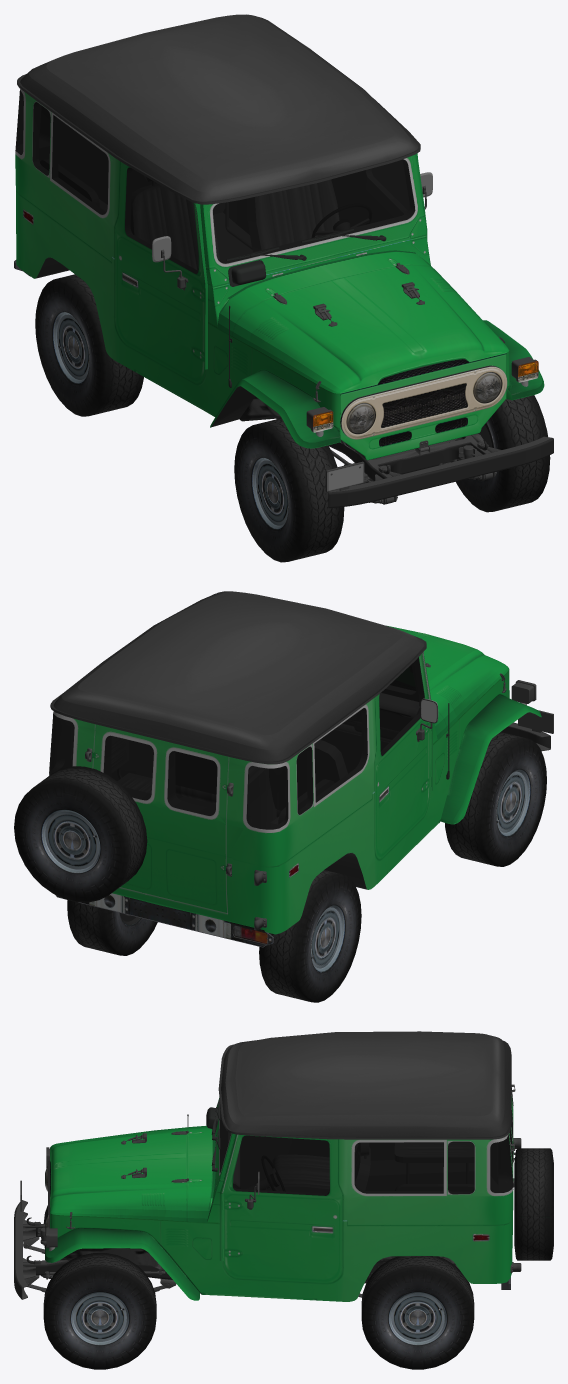
Rendered from car_9.FBX.
3 renders of one model, top to bottom at view 1: azimuth 30°, elevation 25°; view 2: azimuth 150°, elevation 25°; view 3: azimuth 270°, elevation 25°, orthographic. The views are drawn at different scales.
Visible parts, largest first — view 1: Body, Wheel_FR, Wheel_BR, Wheel_FL; view 2: Body, Wheel_FR, Wheel_BR, Wheel_BL; view 3: Body, Wheel_FL, Wheel_BL.
Part boxes in pixels (x1,y1,x2,y2): Body: (14,14,553,508); Wheel_FR: (234,418,344,562); Wheel_BR: (35,274,143,416); Wheel_FL: (456,395,550,512); Body: (14,591,553,947); Wheel_FR: (445,732,546,866); Wheel_BR: (259,870,361,1002); Wheel_BL: (67,900,157,955); Body: (14,1031,553,1301); Wheel_FL: (43,1253,156,1369); Wheel_BL: (361,1256,474,1369).
Size of the model in its own units: 65.77 by 71.29 by 137.
5 materials, 3 textured.
